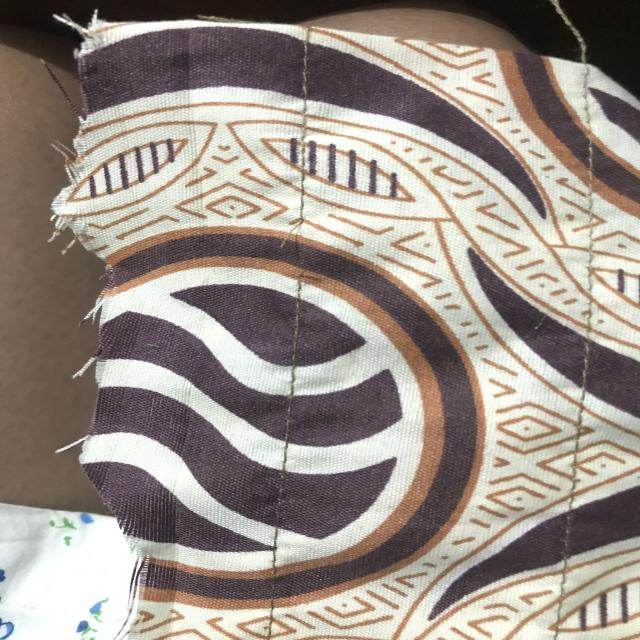broken: (276, 204, 326, 292)
